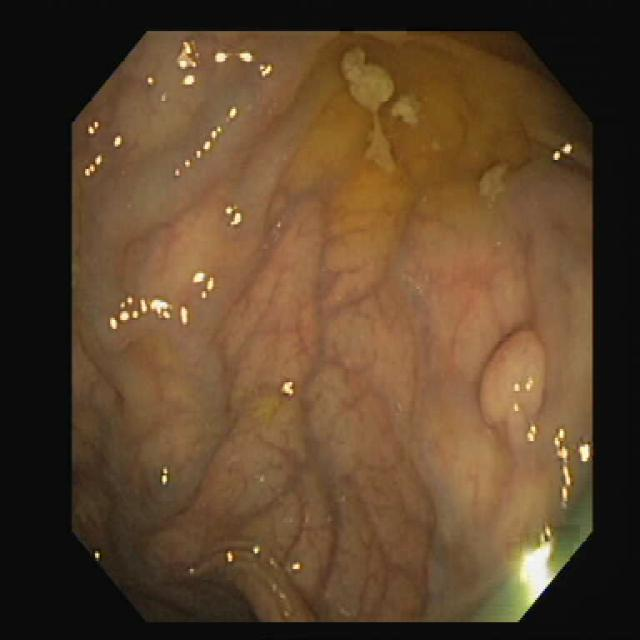tumor: (478, 327, 545, 444)
